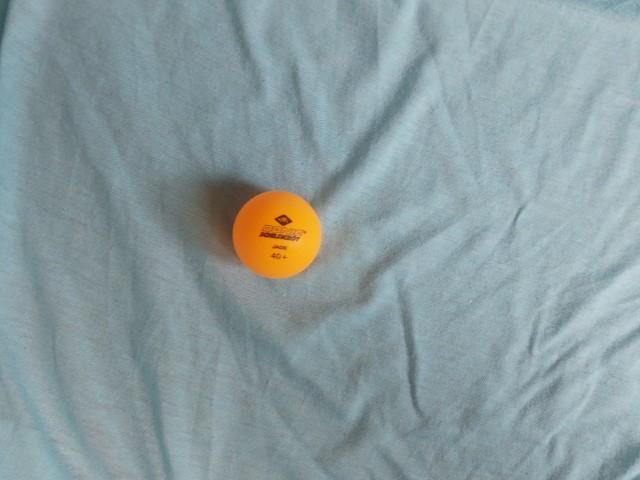oball: (224, 183, 328, 288)
